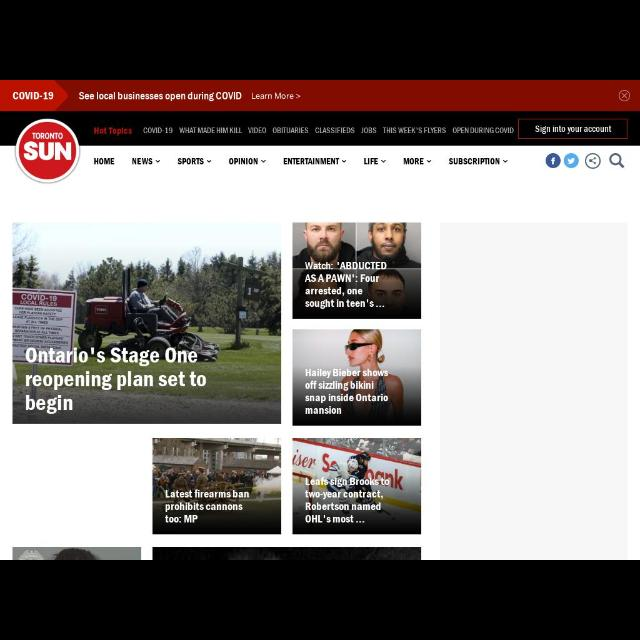icon: (618, 90, 630, 102), (260, 158, 268, 164), (155, 158, 161, 164), (341, 158, 347, 164), (381, 158, 387, 164), (206, 159, 212, 163), (426, 159, 432, 163), (503, 159, 509, 163)
image: (12, 222, 280, 424), (293, 438, 421, 536), (292, 330, 422, 426), (152, 438, 282, 534), (293, 224, 422, 318), (16, 118, 80, 184), (152, 546, 422, 560), (12, 548, 140, 558)
multitab: (93, 126, 514, 136), (94, 158, 508, 166)
spinner: (284, 157, 346, 165), (448, 157, 508, 165), (228, 157, 266, 166), (178, 157, 212, 167), (131, 156, 161, 166), (403, 158, 432, 166), (364, 158, 386, 165)
text: (79, 91, 301, 101), (534, 125, 612, 134), (178, 126, 244, 134), (382, 126, 448, 134), (12, 90, 54, 102), (452, 126, 514, 134), (284, 158, 340, 166), (448, 157, 499, 165), (94, 126, 132, 136), (315, 126, 355, 134), (273, 126, 309, 134), (142, 126, 174, 134), (228, 158, 258, 166), (131, 156, 153, 166), (178, 157, 205, 165), (94, 157, 115, 167), (404, 157, 424, 166), (247, 126, 267, 134), (364, 157, 378, 165), (360, 128, 378, 134)
textbutton: (518, 120, 628, 138)
